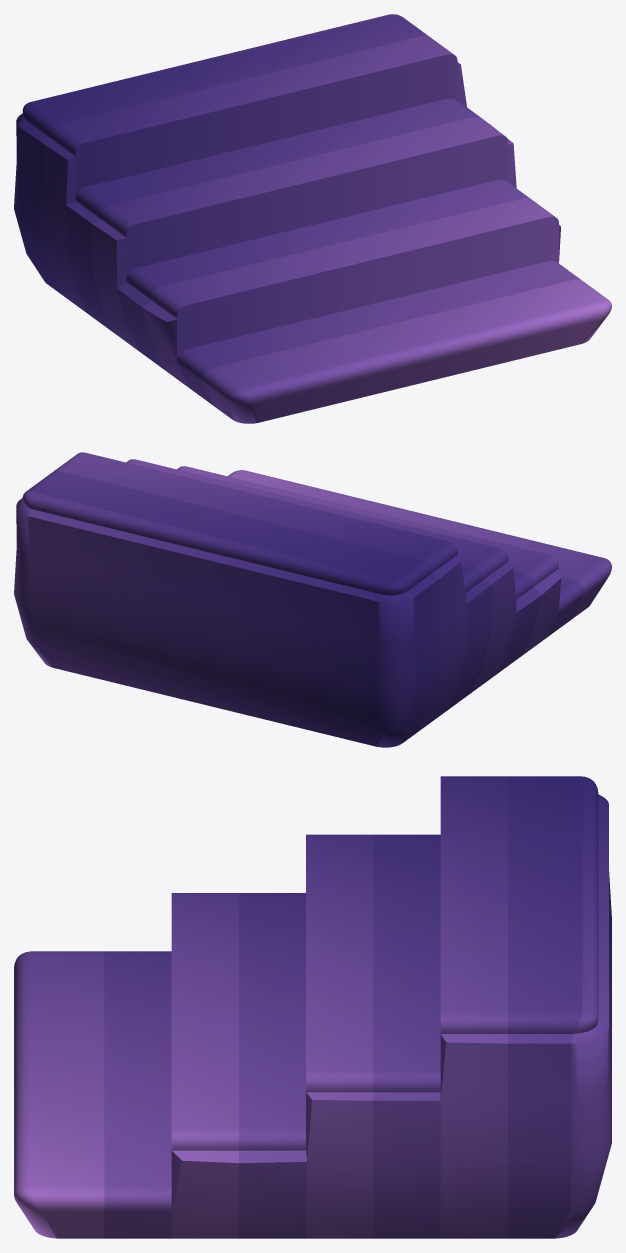
Rendered from Platform-Tb.fbx.
The picture shows the model from 3 angles, top to bottom: view 1: azimuth 30°, elevation 25°; view 2: azimuth 150°, elevation 25°; view 3: azimuth 270°, elevation 25°; orthographic projection. The views are drawn at different scales.
Parts seen in each view (by area): view 1: Plane.001; view 2: Plane.001; view 3: Plane.001.
Boxes of the visible parts, <box> form: Plane.001: <box>14,14,611,423</box>; Plane.001: <box>14,452,611,747</box>; Plane.001: <box>14,776,611,1238</box>.
Size of the model in its own units: 10.74 by 4.41 by 10.48.
